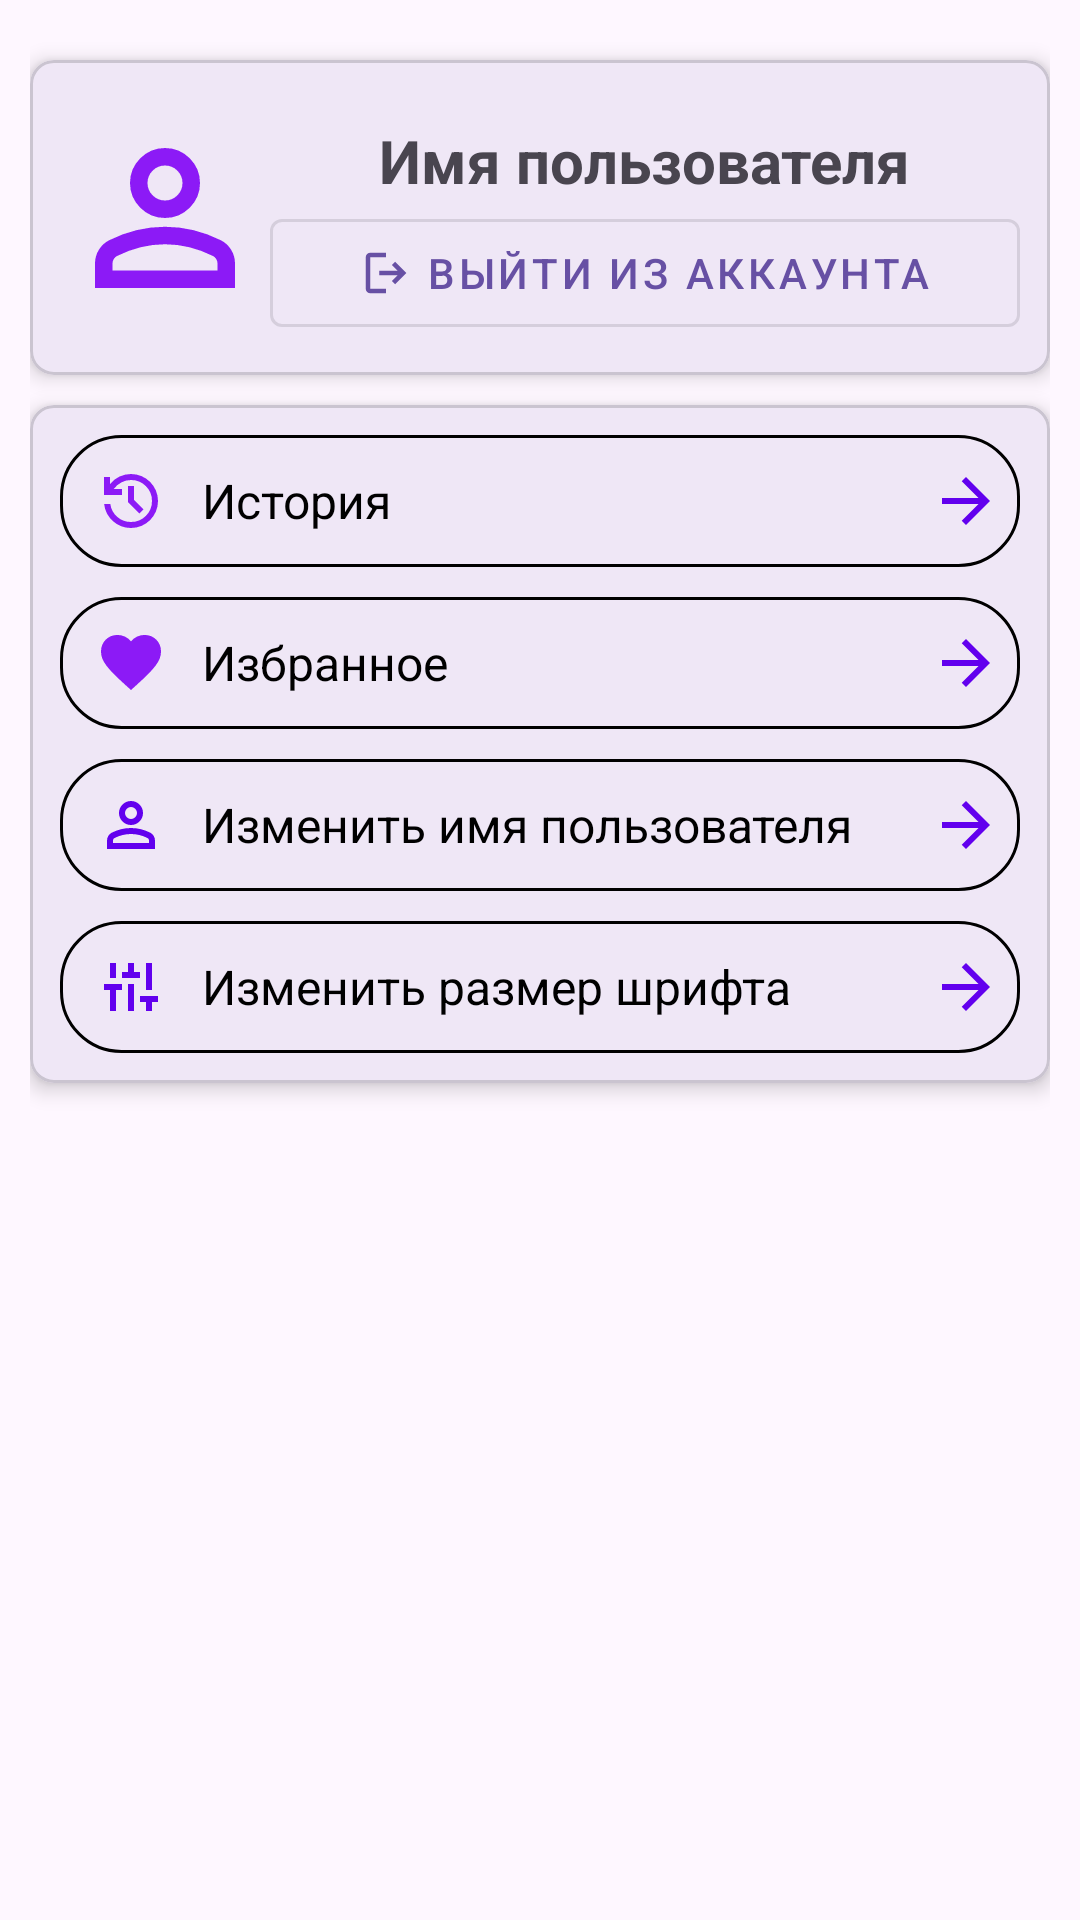

Locate icon controls on the screen. Image size 1080*1920, boxes as (x1, y1, x2, y2).
arrow forward: (942, 477, 990, 525), (942, 639, 990, 687), (942, 801, 990, 849), (942, 963, 990, 1011)
favorite: (101, 635, 161, 690)
history: (104, 474, 158, 528)
user: (95, 148, 235, 288), (107, 801, 155, 849)
